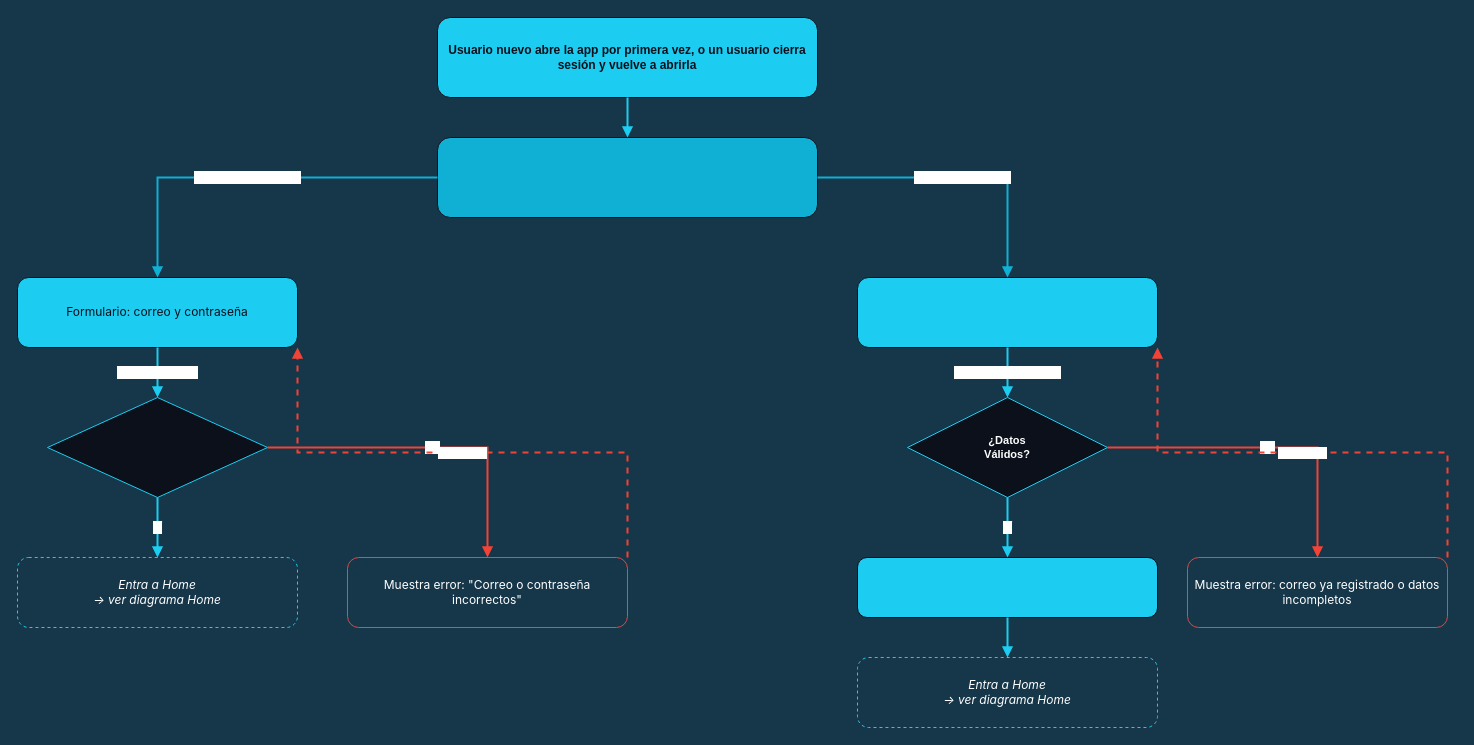
The diagram is 1474 pixels wide and 745 high, and some of its shapes have lost their labels. The box of each missing label's shape, as (x1, y1, x2, y2) in pixels:
Cuenta creada: (856, 556, 1158, 618)
Formulario de registro: nombre, correo y contraseña: (856, 276, 1158, 348)
Pantalla de bienvenida: opciones "Iniciar sesión" y "Registrarse": (436, 136, 818, 218)
¿Credenciales Correctas?: (46, 396, 268, 498)
